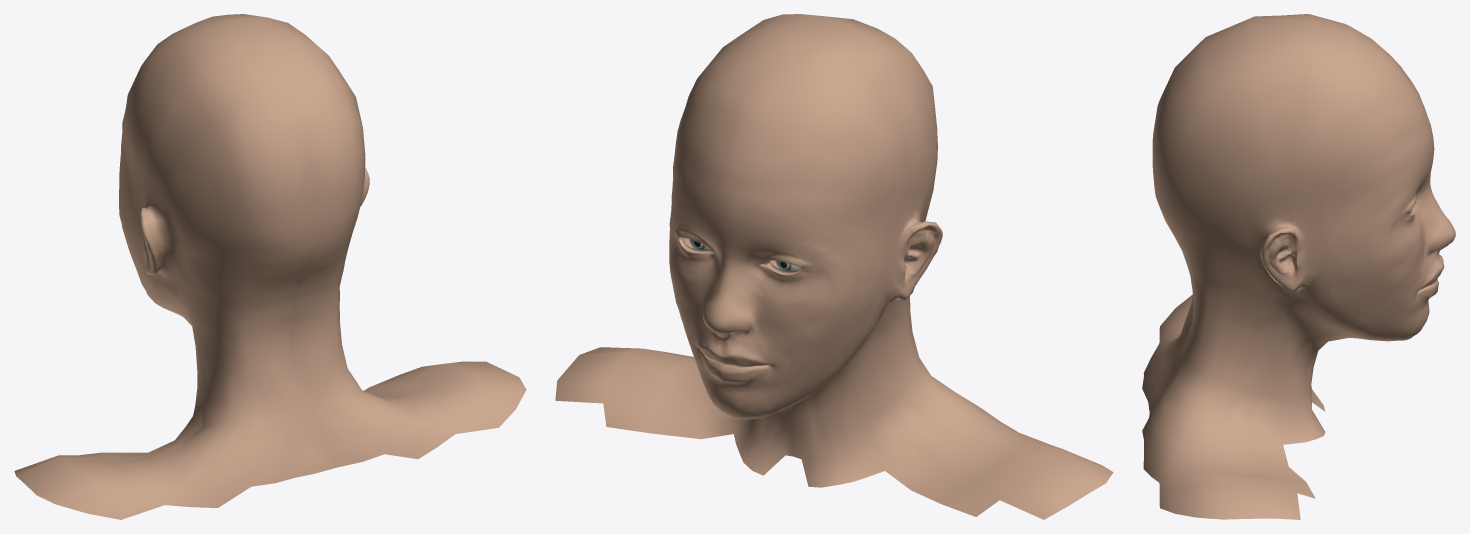
The model's file is human-head.glb.
3 views of the same model, side by side, from view 1: azimuth 30°, elevation 25°; view 2: azimuth 150°, elevation 25°; view 3: azimuth 270°, elevation 25° (orthographic). The views are drawn at different scales.
Visible parts, largest first — view 1: HumanHead; view 2: HumanHead; view 3: HumanHead.
Boxes of the visible parts, box(x1,y1,x2,y2) form: HumanHead: box(14, 14, 526, 519); HumanHead: box(555, 14, 1113, 519); HumanHead: box(1142, 14, 1455, 519).
Bounding box in the file's own units: 0.4151 × 0.3297 × 0.2368.
